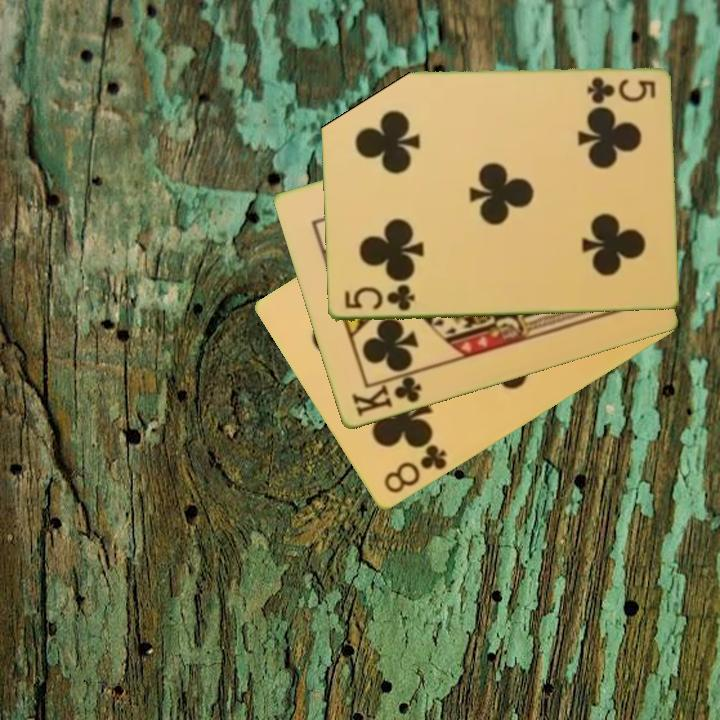5c: (340, 281, 417, 314), (583, 73, 658, 103)
8c: (380, 441, 450, 497)
Kc: (348, 368, 424, 421)
